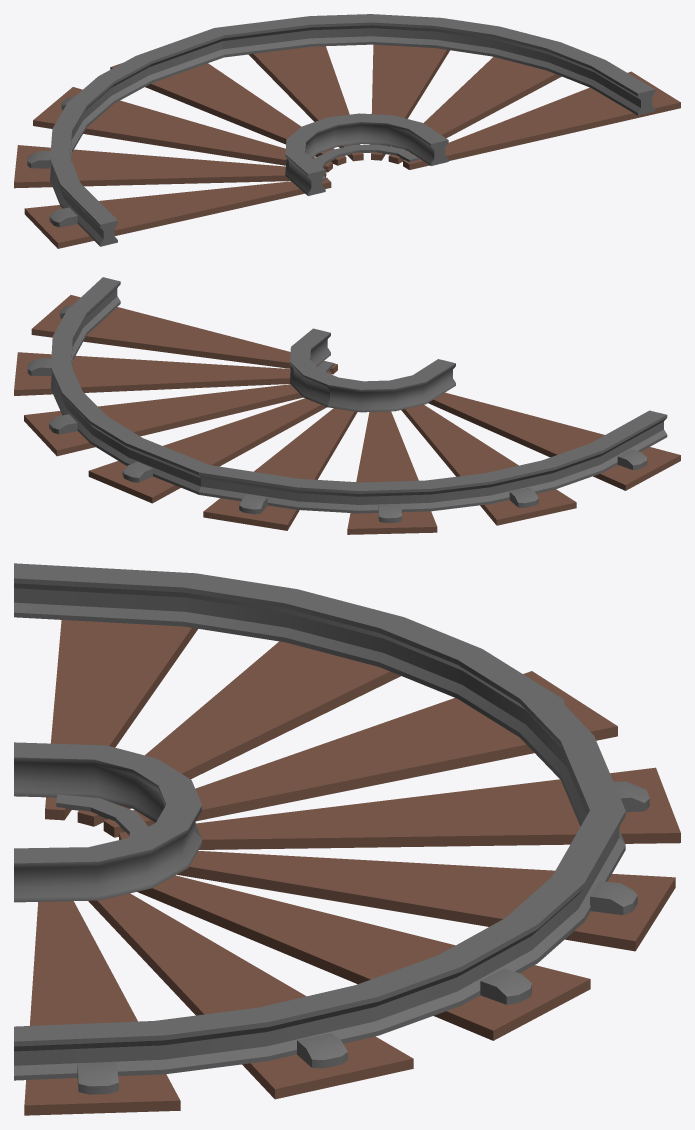
Rendered from Trilho_volta.fbx.
The picture shows the model from 3 angles, top to bottom: view 1: azimuth 30°, elevation 25°; view 2: azimuth 150°, elevation 25°; view 3: azimuth 270°, elevation 25°; orthographic projection. The views are drawn at different scales.
Visible parts, largest first — view 1: Trilho_volta; view 2: Trilho_volta; view 3: Trilho_volta.
Part boxes in pixels (box(x1,y1,x2,y2)): Trilho_volta: box(14, 14, 680, 248); Trilho_volta: box(14, 277, 680, 534); Trilho_volta: box(14, 563, 680, 1115).
Size of the model in its own units: 441 by 19.27 by 236.
